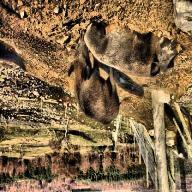boar: (92, 20, 191, 88), (67, 49, 131, 143)
